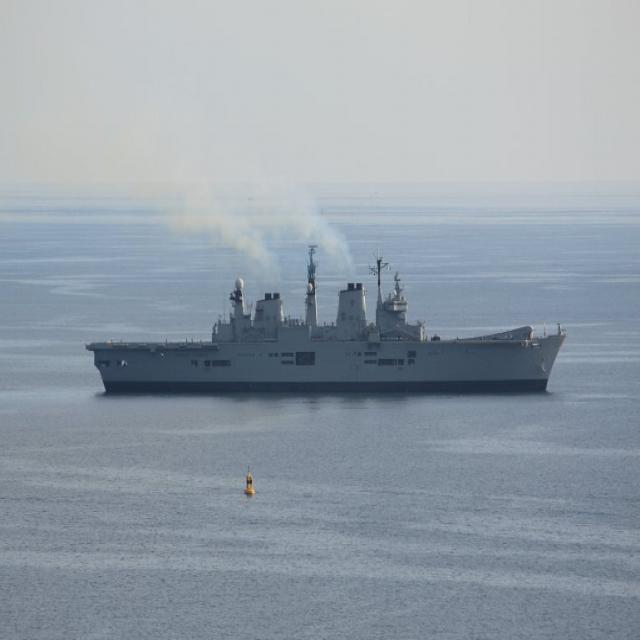Portanaves: (83, 227, 568, 403)
